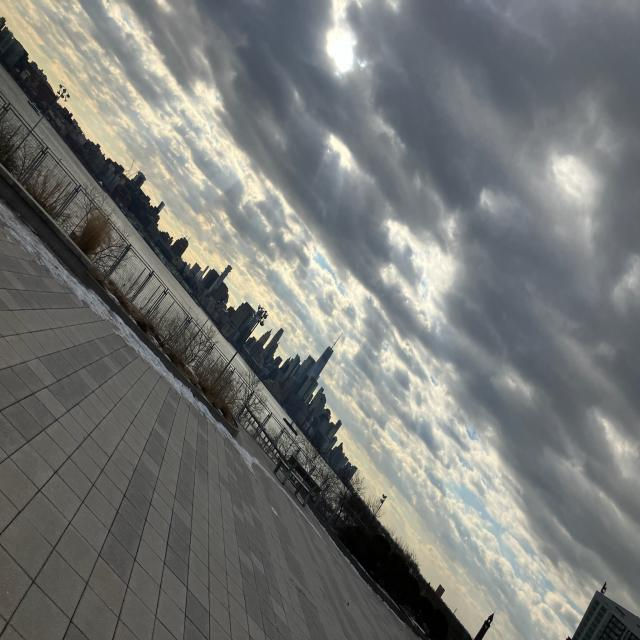WTC: (308, 330, 346, 379)
